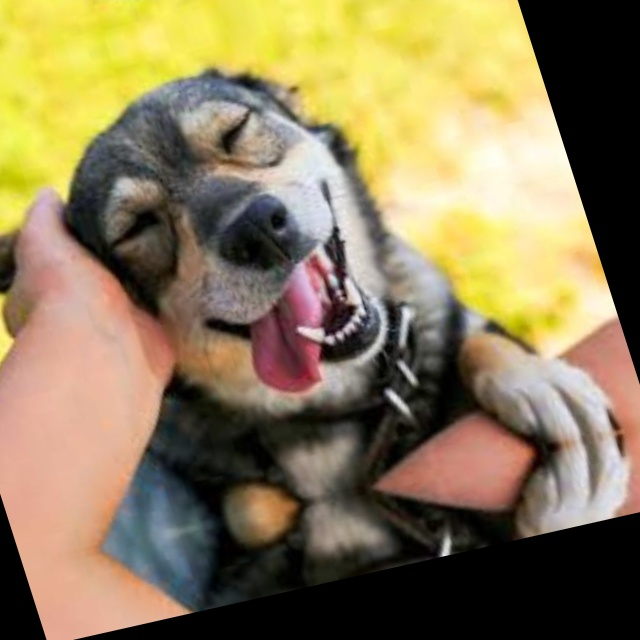dog: (22, 4, 595, 535), (159, 438, 620, 615), (0, 0, 437, 38)
